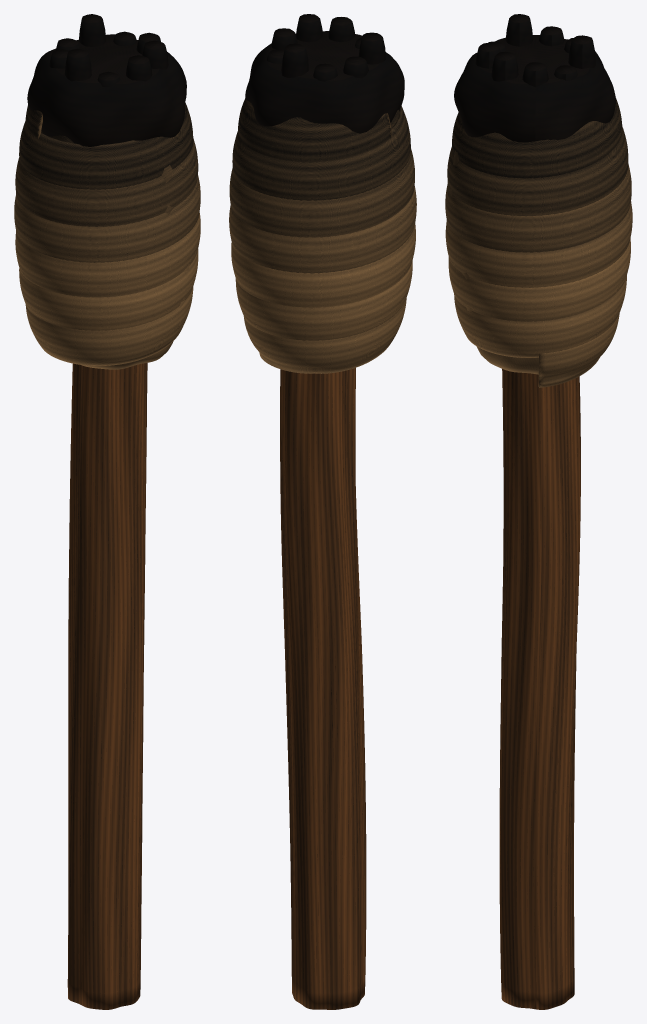
File: Torch.glb
The picture shows the model from 3 angles, left to right: view 1: azimuth 30°, elevation 25°; view 2: azimuth 150°, elevation 25°; view 3: azimuth 270°, elevation 25°; orthographic projection.
Parts seen in each view (by area): view 1: Equipment.Torch; view 2: Equipment.Torch; view 3: Equipment.Torch.
Boxes of the visible parts, left/top/right/bottom form: Equipment.Torch: left=14, top=14, right=200, bottom=1009; Equipment.Torch: left=229, top=14, right=416, bottom=1009; Equipment.Torch: left=445, top=14, right=632, bottom=1009.
Bounding box in the file's own units: 0.1068 × 0.6047 × 0.107.
3 materials, 3 textured.
